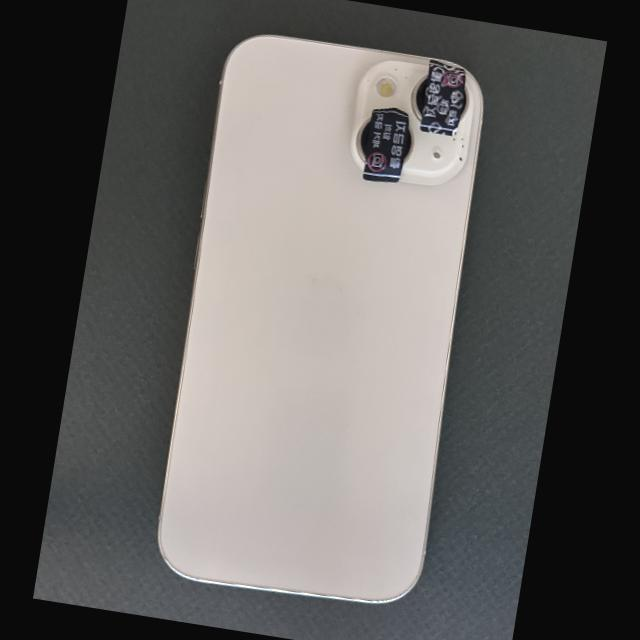lens: (411, 75, 427, 119), (355, 117, 370, 162)
phone: (156, 33, 485, 605)
sticker: (420, 59, 466, 138), (362, 107, 409, 183)
